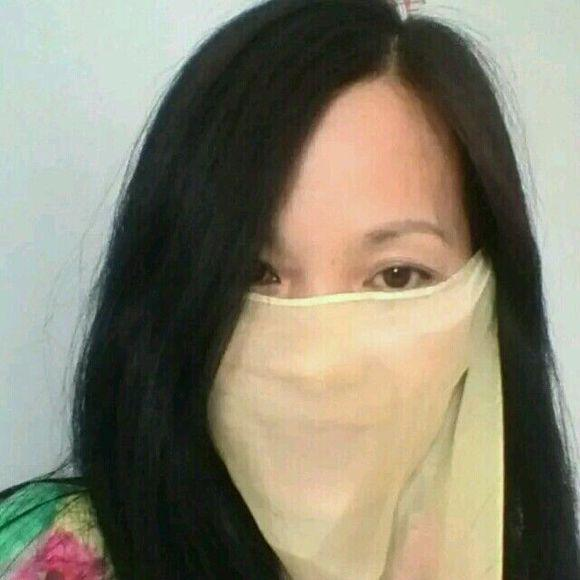OK: (193, 206, 450, 463)
